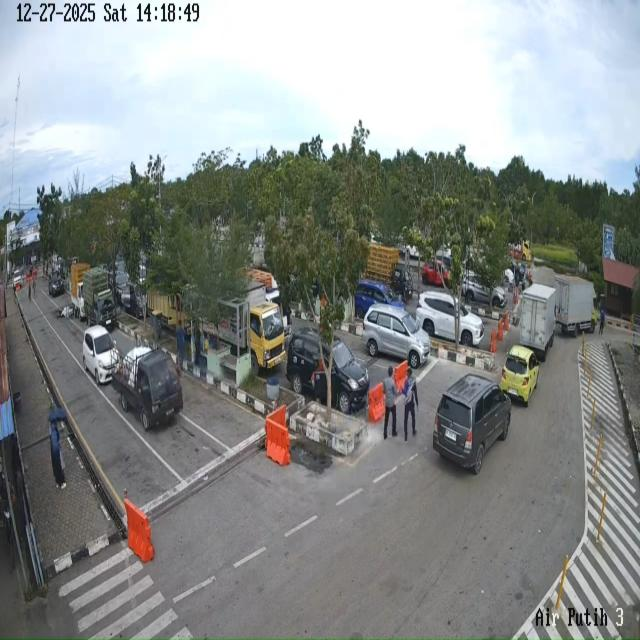Golongan IVA: (433, 373, 511, 475), (286, 327, 370, 414), (363, 304, 430, 369), (416, 291, 484, 347), (499, 345, 540, 406), (82, 325, 119, 386), (354, 280, 405, 319), (463, 271, 506, 308), (48, 271, 65, 297)
Golongan IVB: (112, 343, 183, 431), (81, 267, 116, 329), (70, 263, 90, 320)
Golongan VB: (202, 281, 285, 375), (520, 283, 556, 362), (555, 275, 598, 337)
